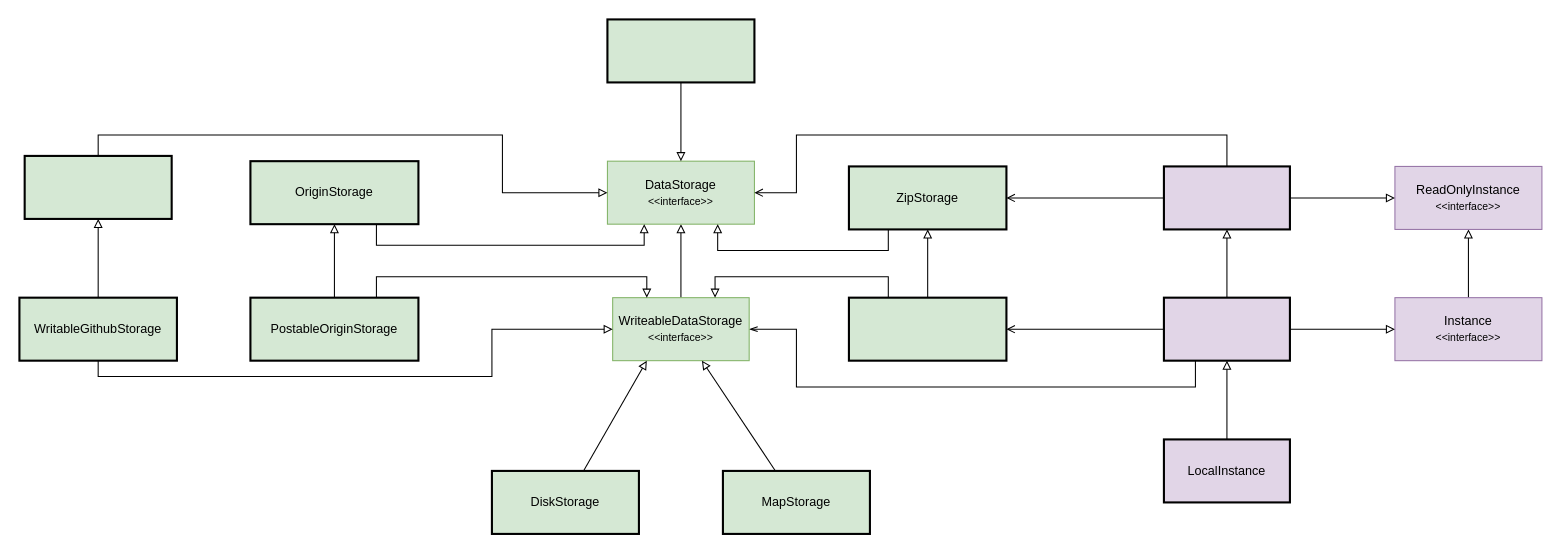
The diagram is 1560 pixels wide and 552 high, and some of its shapes have lost their labels. The centre of each missing label's shape, as x and y in pixels:
"GithubStorage" goes at (97,186).
"NetworkStorage" goes at (680,50).
"ReadInstance" goes at (1226,197).
"WritableZipStorage" goes at (927,328).
"WriteInstance" goes at (1226,328).
